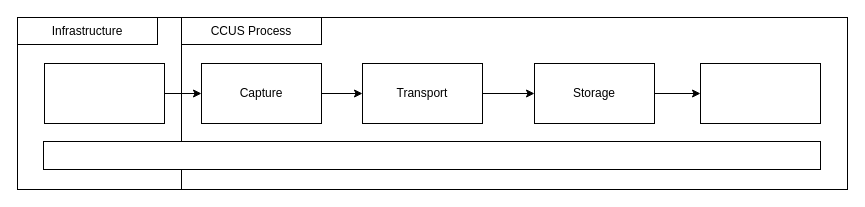
Image size: 865x207. Some labels were removed from this diagram. The shapes that lost their labels are listed below. From the top down, each one's centre as x and y in pixels, then its label:
At (104,93): "Planning and Development".
At (760,93): "Utilization".
At (431,155): "Monitoring and Evaluation".
